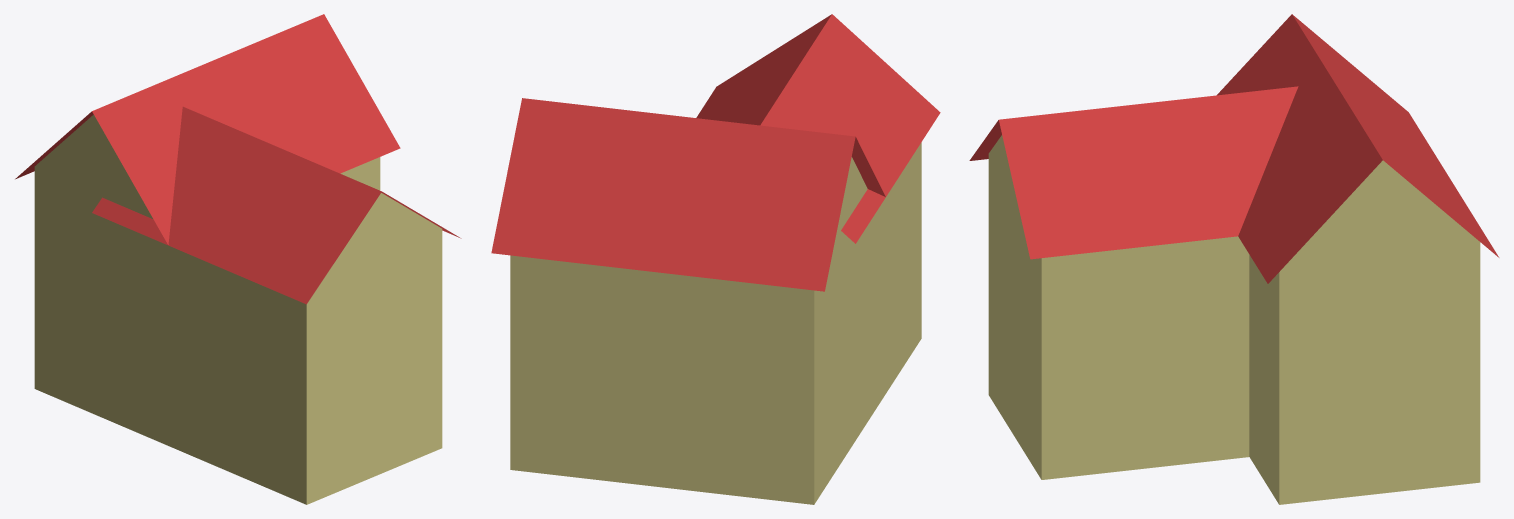
The picture shows the model from 3 angles, left to right: view 1: azimuth 30°, elevation 25°; view 2: azimuth 150°, elevation 25°; view 3: azimuth 270°, elevation 25°; orthographic projection. The views are drawn at different scales.
Size of the model in its own units: 19.24 by 25.09 by 17.75.
